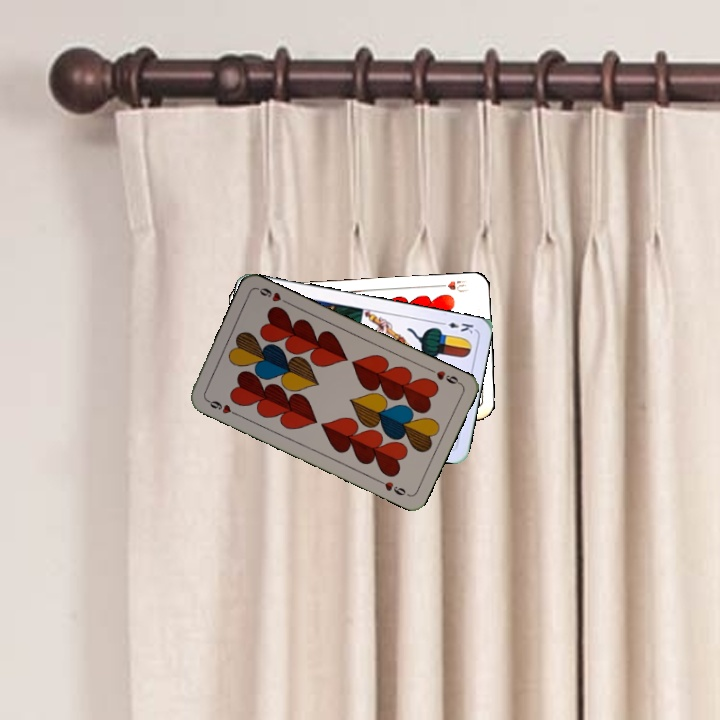EK: (436, 318, 476, 336)
H10: (432, 276, 470, 295)
H9: (202, 395, 241, 418), (425, 365, 463, 387)
